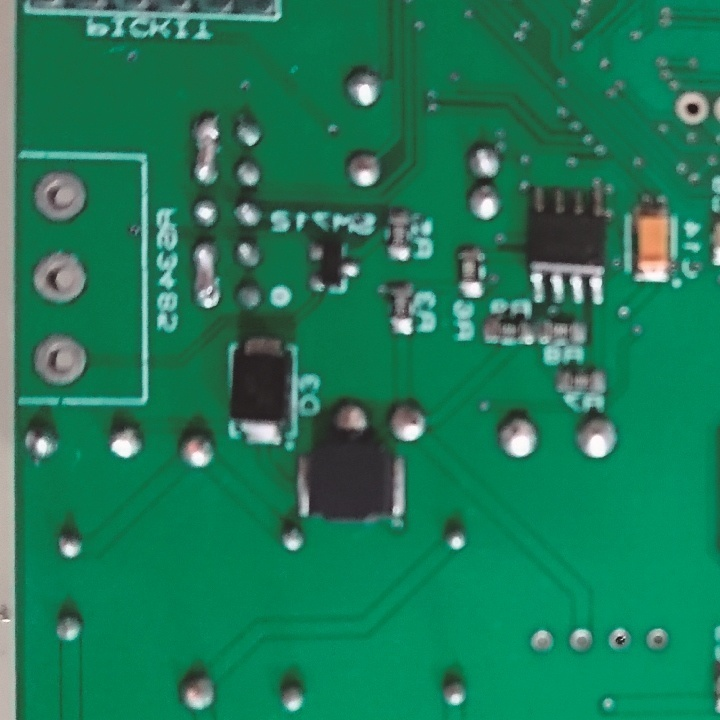F: (28, 246, 87, 308), (30, 167, 92, 225), (30, 331, 93, 386), (672, 90, 714, 128), (641, 621, 671, 658), (527, 623, 559, 657), (564, 625, 598, 655), (604, 623, 634, 655)
P: (188, 109, 221, 190), (191, 235, 225, 312)
